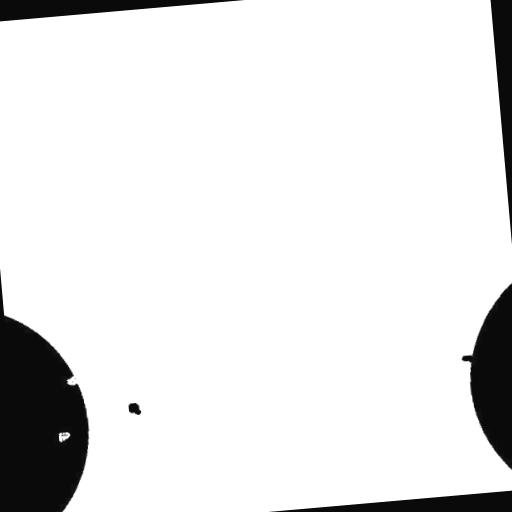copper: (120, 394, 149, 423)
mousebite: (58, 368, 84, 394)
pin-hole: (50, 424, 78, 450)
spur: (453, 346, 484, 372)
